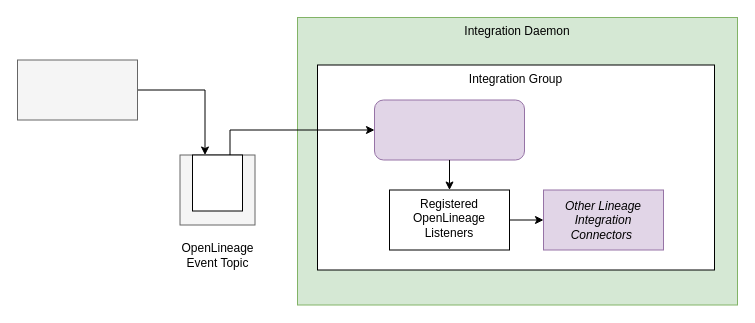
This 755x323 diagram has some shape labels left out. Here are the shapes that lost their labels. From the top down, the centre of each, then its label:
(x=77, y=89): Third Party Technology
(x=449, y=129): OpenLineage Event Receiver Integration Connector
